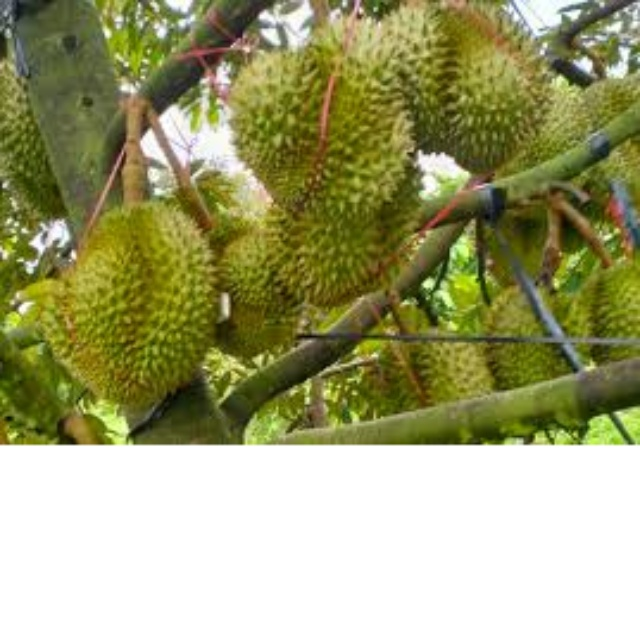sau_rieng: (225, 19, 406, 211), (380, 3, 556, 173), (67, 199, 214, 401)
